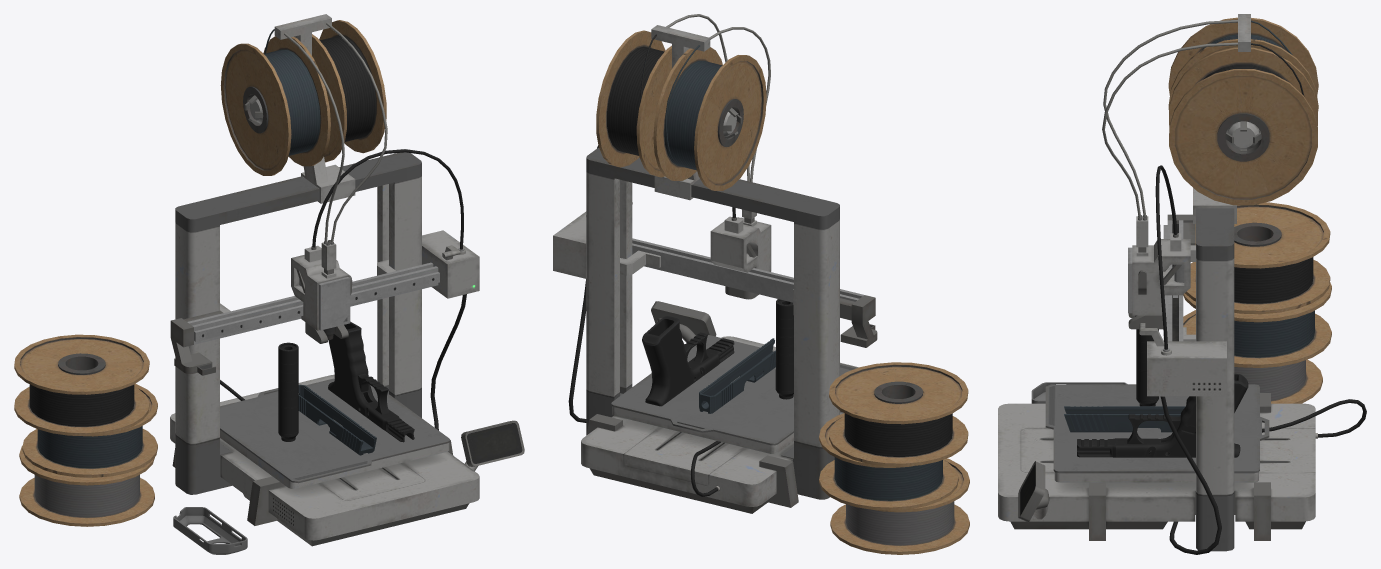
The model's file is 3d_printer.glb.
3 renders of one model, left to right at view 1: azimuth 30°, elevation 25°; view 2: azimuth 150°, elevation 25°; view 3: azimuth 270°, elevation 25°, orthographic. The views are drawn at different scales.
Parts seen in each view (by area): view 1: 3D_Printer, Filament_Spool_Stack, Filament_Spools, Pistol_Shell, PistolSlide_Shell, Suppressor, Device_Shell; view 2: 3D_Printer, Filament_Spool_Stack, Filament_Spools, Pistol_Shell, PistolSlide_Shell, Suppressor; view 3: 3D_Printer, Filament_Spools, Filament_Spool_Stack, Pistol_Shell, PistolSlide_Shell, Suppressor, Device_Shell.
Boxes of the visible parts, box(x1,y1,x2,y2) form: 3D_Printer: box(170, 14, 524, 546); Filament_Spool_Stack: box(14, 334, 157, 526); Filament_Spools: box(220, 20, 386, 175); Pistol_Shell: box(328, 321, 414, 442); PistolSlide_Shell: box(298, 384, 376, 455); Suppressor: box(278, 342, 298, 441); Device_Shell: box(173, 507, 247, 554); 3D_Printer: box(553, 14, 877, 513); Filament_Spool_Stack: box(819, 362, 969, 554); Filament_Spools: box(596, 30, 766, 190); Pistol_Shell: box(642, 316, 734, 406); PistolSlide_Shell: box(699, 338, 775, 413); Suppressor: box(775, 299, 793, 399); 3D_Printer: box(998, 14, 1366, 554); Filament_Spools: box(1168, 17, 1318, 205); Filament_Spool_Stack: box(1183, 202, 1331, 403); Pistol_Shell: box(1077, 373, 1248, 457); PistolSlide_Shell: box(1064, 406, 1185, 432); Suppressor: box(1136, 329, 1158, 406); Device_Shell: box(1031, 382, 1127, 403).
Size of the model in its own units: 0.704 by 0.7013 by 0.4993.
Materials: 2 (2 with a texture image).
